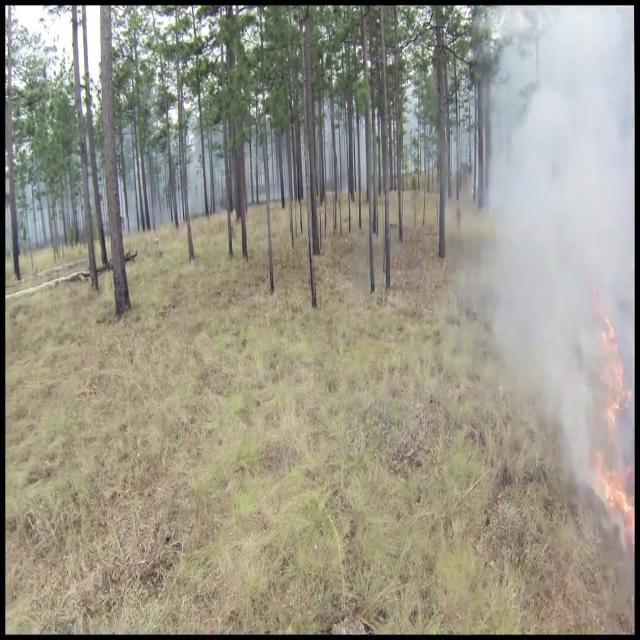Smoke: (453, 6, 634, 532)
